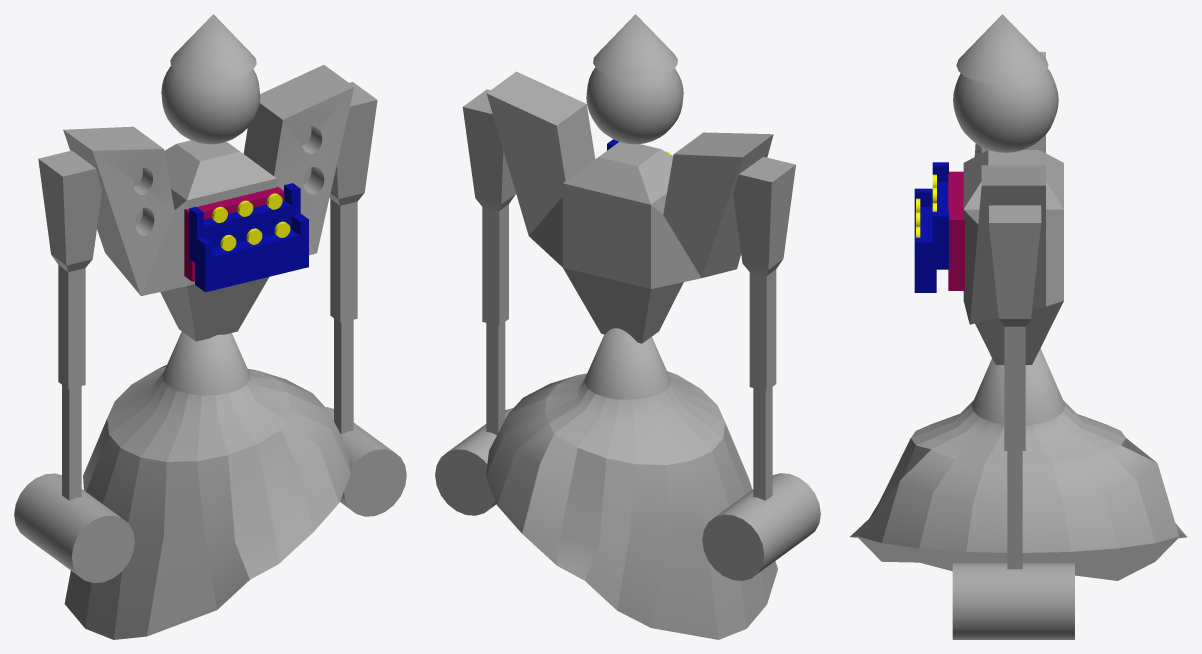
Rendered from clown-proxy.fbx.
3 views of the same model, side by side, from view 1: azimuth 30°, elevation 25°; view 2: azimuth 150°, elevation 25°; view 3: azimuth 270°, elevation 25° (orthographic). The views are drawn at different scales.
Parts seen in each view (by area): view 1: pCone1, Chest, mallet (×2), arm3, arm, pSphere1, pCube9, pCone2, pCube10, Whack_a_mole; view 2: pCone1, Chest, mallet (×2), arm3, arm, pSphere1, pCone2; view 3: pCone1, Chest, arm, mallet, pSphere1, pCone2, pCube9, Whack_a_mole, pCube10.
Part boxes in pixels (box(x1,y1,x2,y2)): pCone1: box(64, 331, 350, 639); Chest: box(63, 65, 354, 341); mallet (×2): box(14, 407, 406, 582); arm3: box(38, 150, 101, 500); arm: box(329, 82, 377, 434); pSphere1: box(161, 66, 260, 144); pCube9: box(195, 213, 308, 292); pCone2: box(170, 14, 256, 80); pCube10: box(189, 183, 300, 263); Whack_a_mole: box(184, 186, 284, 281); pCone1: box(485, 328, 777, 639); Chest: box(486, 71, 773, 343); mallet (×2): box(435, 408, 820, 580); arm3: box(733, 157, 795, 500); arm: box(462, 89, 515, 434); pSphere1: box(586, 67, 683, 144); pCone2: box(593, 14, 677, 79); pCone1: box(850, 348, 1186, 580); Chest: box(963, 51, 1063, 364); arm: box(989, 205, 1041, 569); mallet: box(952, 563, 1074, 639); pSphere1: box(953, 68, 1058, 152); pCone2: box(956, 14, 1048, 84); pCube9: box(914, 188, 936, 292); Whack_a_mole: box(948, 171, 964, 290); pCube10: box(932, 162, 948, 269).
Size of the model in its own units: 11.1 by 18.71 by 9.13.
